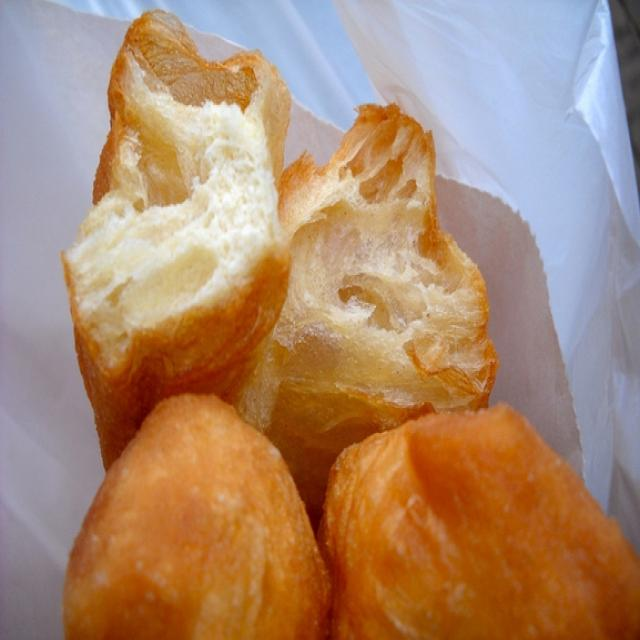炸货点心: (40, 18, 616, 625)
